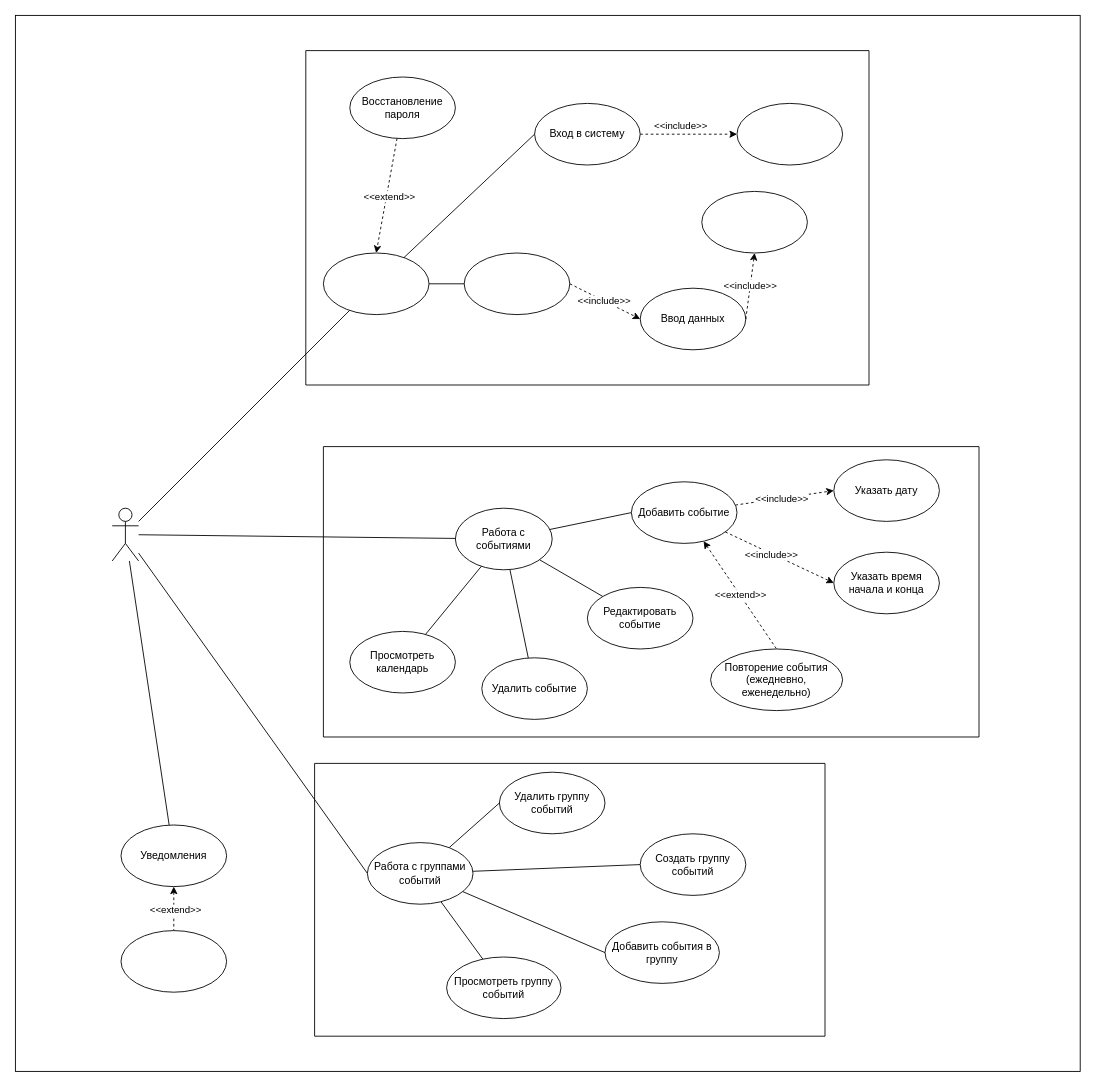
This 1096x1087 diagram has some shape labels left out. Here are the shapes that lost their labels. From the top down, the centre of each, then its label:
At [789,134]: "Проверка логина и пароля".
At [754,222]: "Подтверждение".
At [376,283]: "Авторизация".
At [516,283]: "Регистрация".
At [125,534]: "Actor".
At [173,961]: "Получить напоминания о событиях".
